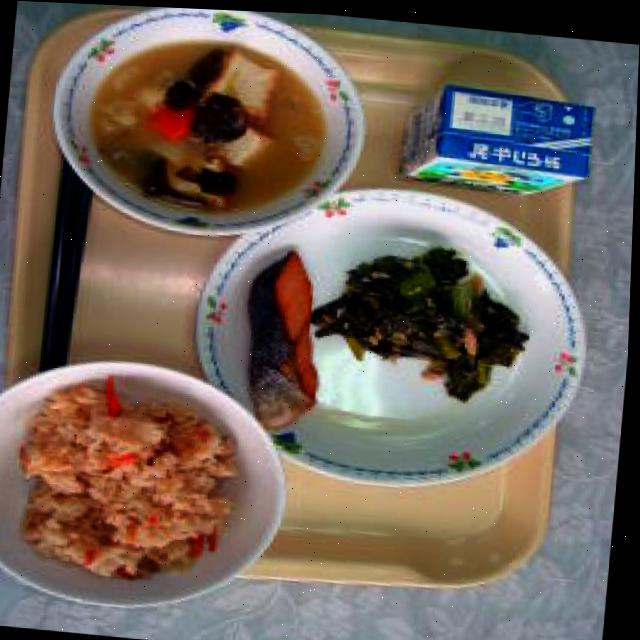熟制海鲜: (233, 237, 352, 435)
